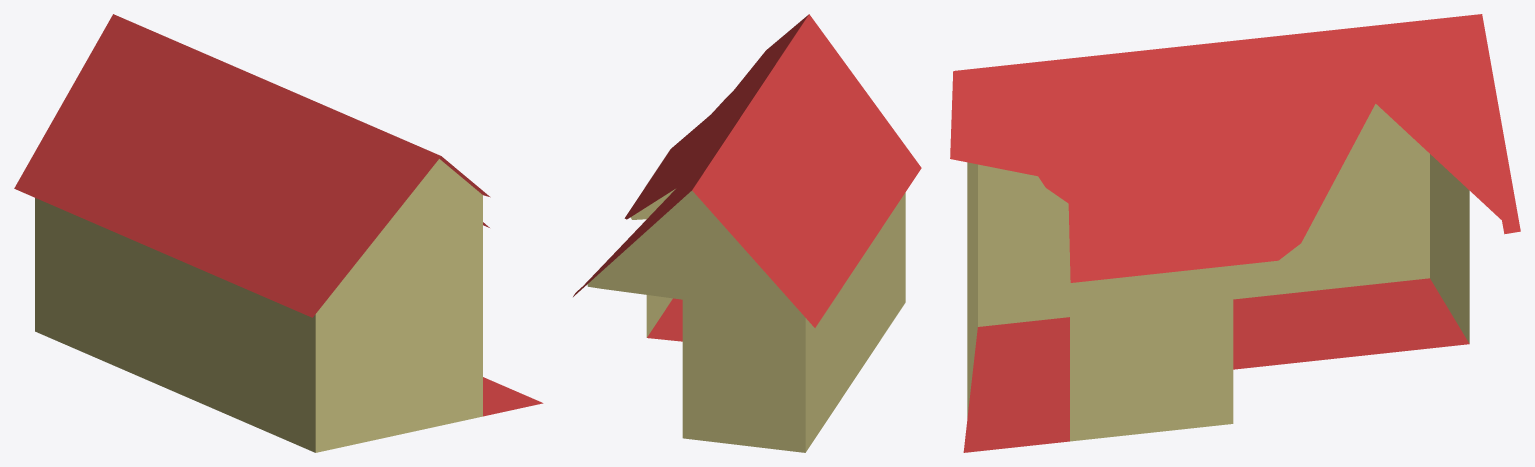
The picture shows the model from 3 angles, left to right: view 1: azimuth 30°, elevation 25°; view 2: azimuth 150°, elevation 25°; view 3: azimuth 270°, elevation 25°; orthographic projection. The views are drawn at different scales.
Size of the model in its own units: 18.9 by 24.84 by 15.43.
